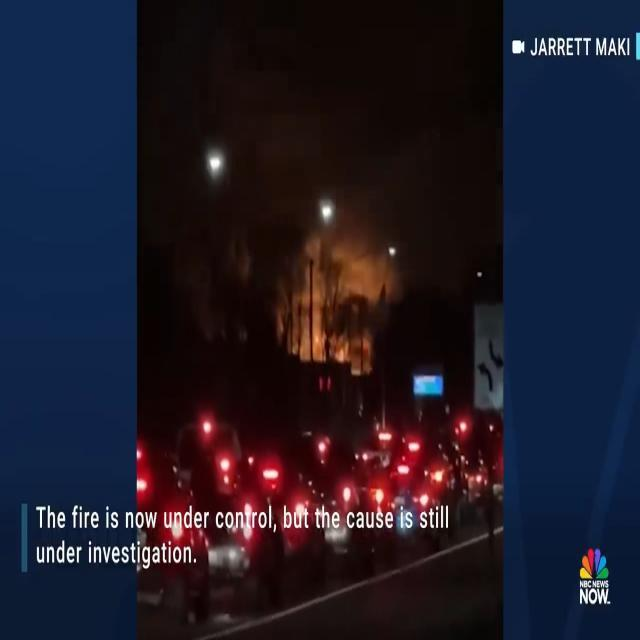fire: (294, 302, 369, 370)
